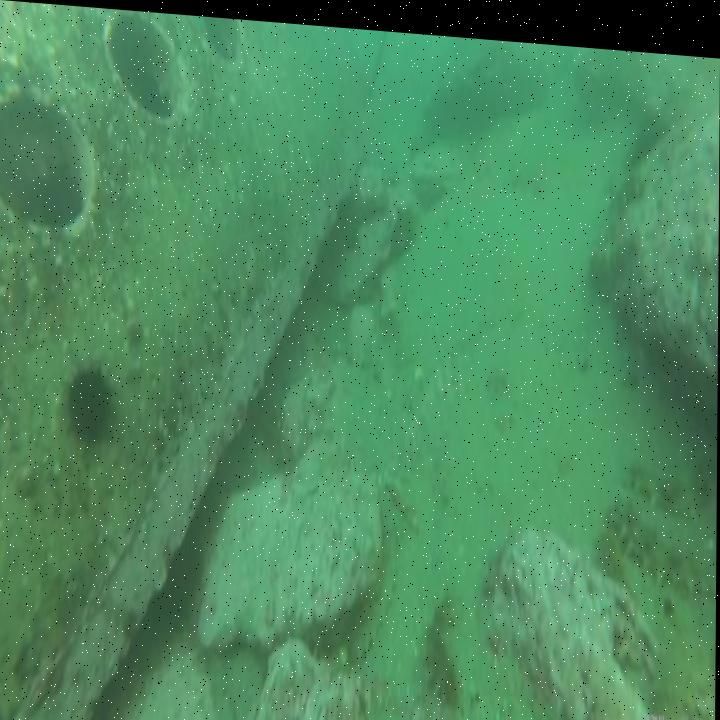echinus: (63, 351, 125, 454)
holothurian: (609, 485, 716, 599), (652, 608, 714, 720), (420, 582, 464, 703), (627, 446, 703, 513)
